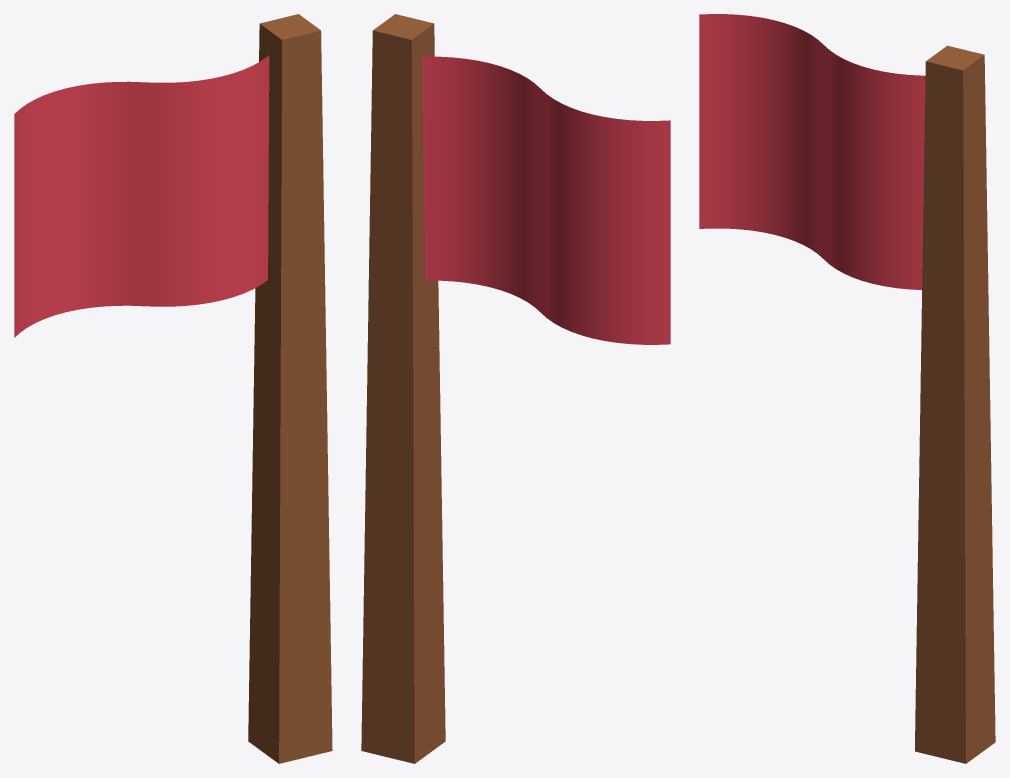
Rendered from flag.glb.
3 renders of one model, left to right at view 1: azimuth 30°, elevation 25°; view 2: azimuth 150°, elevation 25°; view 3: azimuth 330°, elevation 25°, orthographic. The views are drawn at different scales.
Parts seen in each view (by area): view 1: flag; view 2: flag; view 3: flag.
Part boxes in pixels (x1,y1,x2,y2): flag: (14, 14, 332, 763); flag: (361, 14, 670, 763); flag: (699, 14, 995, 763).
Size of the model in its own units: 0.3905 by 0.9 by 0.0754.
